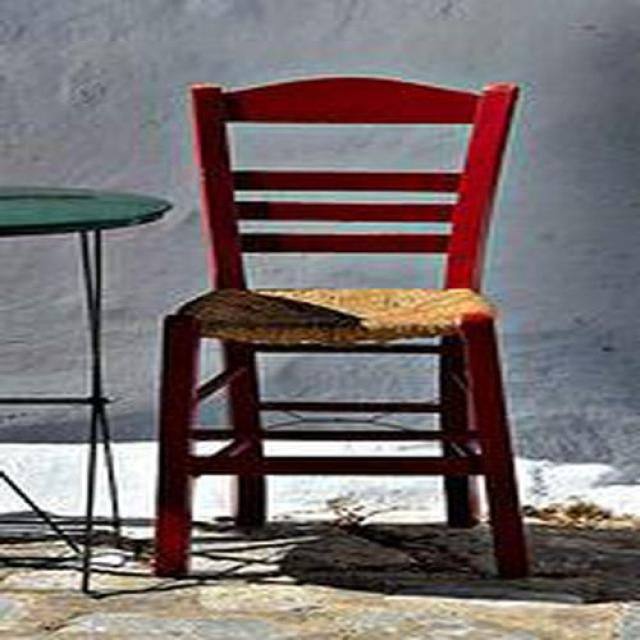chair: (152, 77, 532, 581)
